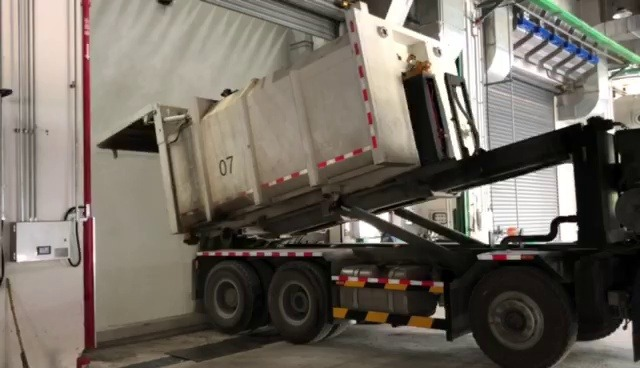dust: (95, 171, 186, 323)
truck: (146, 3, 639, 368)
